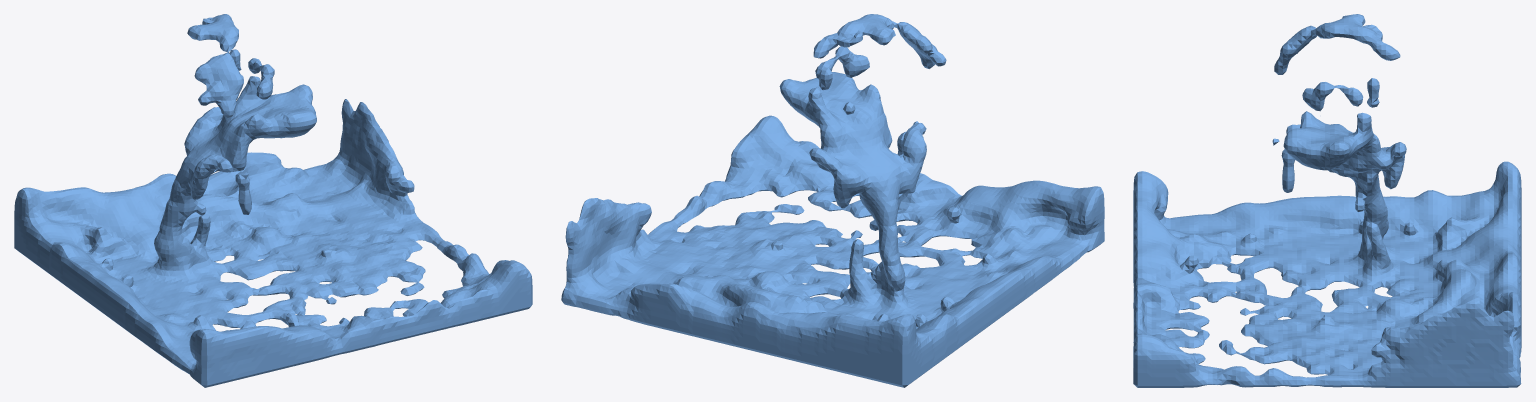
File: water_0082.glb
The picture shows the model from 3 angles, left to right: view 1: azimuth 30°, elevation 25°; view 2: azimuth 150°, elevation 25°; view 3: azimuth 270°, elevation 25°; orthographic projection. The views are drawn at different scales.
Parts seen in each view (by area): view 1: Water_0082; view 2: Water_0082; view 3: Water_0082.
Boxes of the visible parts, box(x1,y1,x2,y2) form: Water_0082: box(14, 14, 532, 387); Water_0082: box(561, 14, 1104, 387); Water_0082: box(1133, 14, 1521, 387).
Size of the model in its own units: 4.83 by 3.63 by 4.83.
